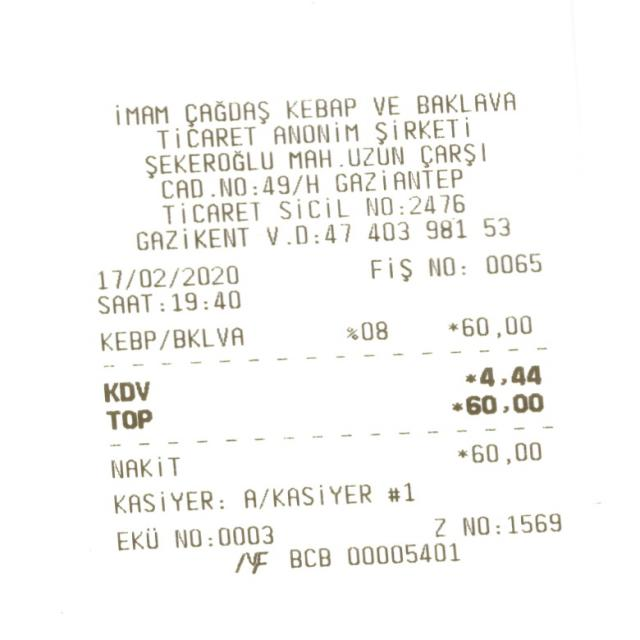text: (159, 173, 319, 200), (99, 325, 243, 351), (142, 149, 272, 177), (96, 264, 240, 289), (242, 482, 370, 508), (96, 290, 240, 313), (333, 168, 462, 192), (134, 224, 248, 250), (346, 540, 458, 566), (112, 488, 224, 512), (373, 116, 468, 144), (183, 98, 268, 126), (161, 199, 258, 223), (155, 125, 255, 148), (172, 525, 272, 548), (365, 192, 464, 215), (462, 512, 560, 535), (415, 91, 515, 113), (452, 392, 542, 415), (266, 222, 350, 246), (456, 441, 540, 464), (449, 315, 531, 338), (108, 455, 182, 480), (273, 121, 357, 143), (464, 364, 540, 386), (419, 142, 485, 167), (285, 96, 355, 118), (278, 197, 347, 219), (485, 252, 539, 274), (345, 146, 403, 166), (114, 104, 168, 125), (368, 257, 411, 281), (286, 147, 330, 169), (102, 381, 148, 402), (104, 409, 151, 429), (287, 547, 329, 568), (116, 528, 156, 550), (365, 222, 407, 242), (344, 320, 386, 340), (425, 219, 466, 239), (232, 551, 269, 573), (428, 254, 464, 276), (385, 481, 413, 501), (482, 217, 510, 236), (372, 96, 398, 115), (430, 517, 446, 537)
